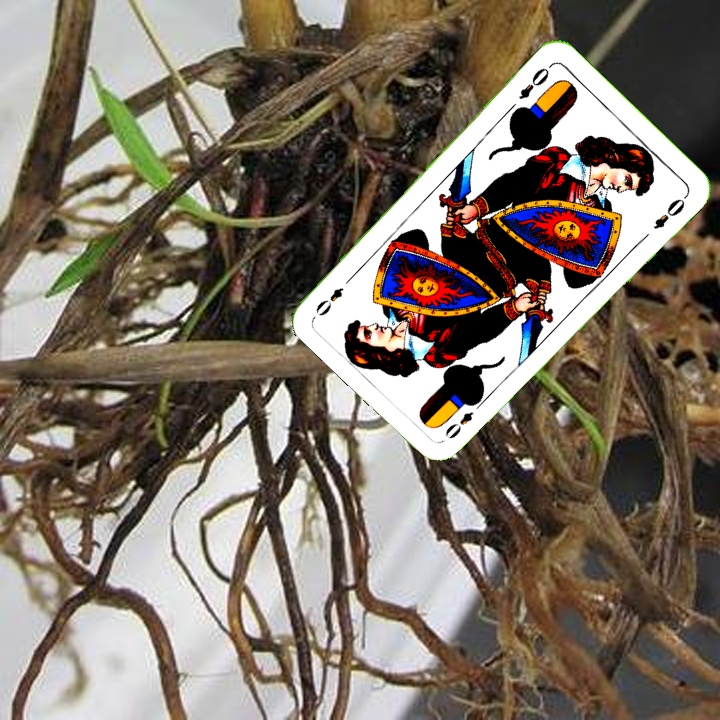EO: (440, 395, 487, 442), (514, 60, 555, 102)
